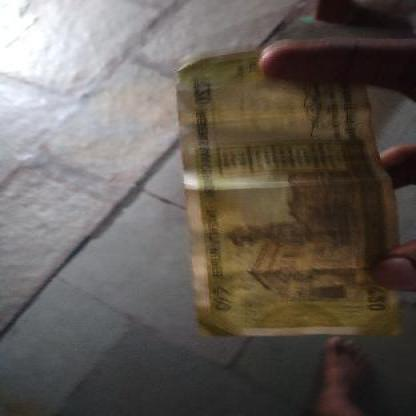New20Back: (185, 52, 399, 330)
